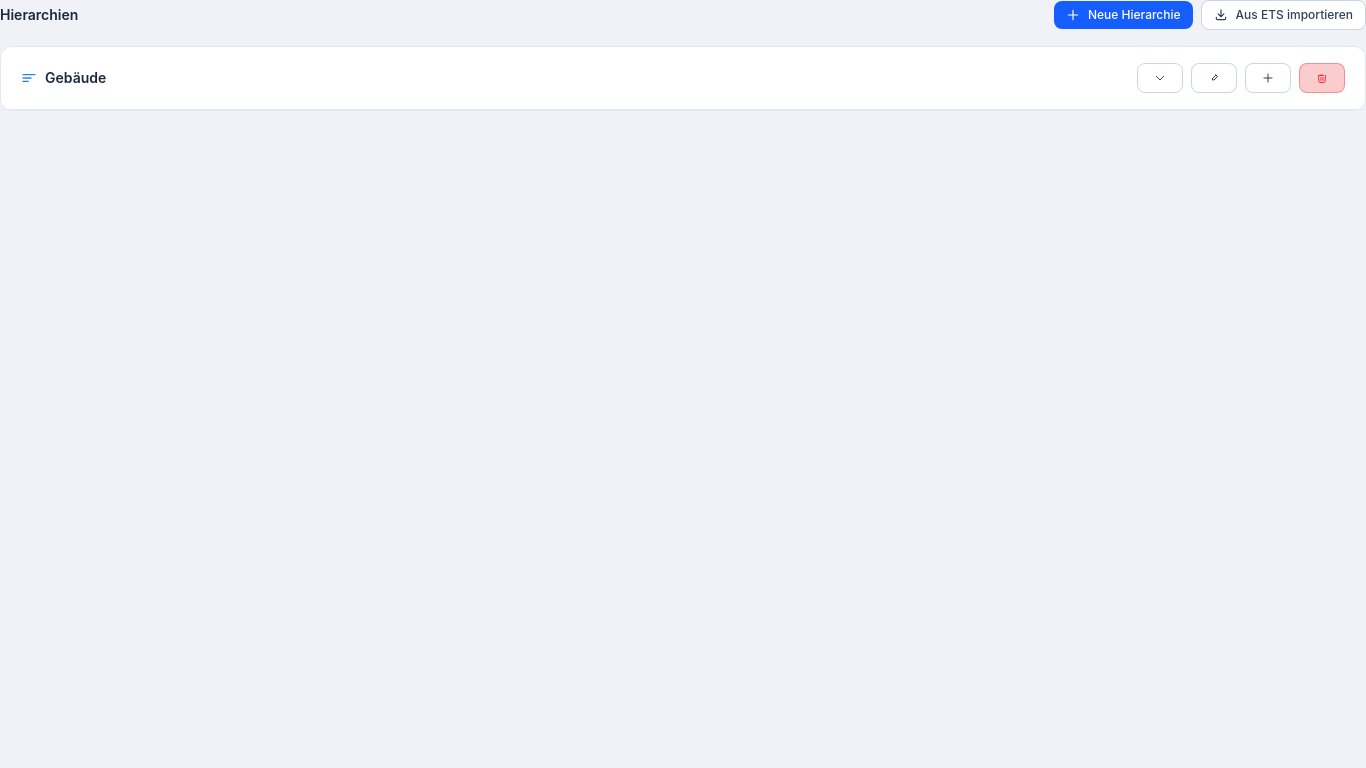
it: HierarchyManager — edit tree › opens tree edit modal with existing name
Click the button with test id "btn-edit-tree-tree-1". click: (1214, 78)
box: [1191,63,1237,93]
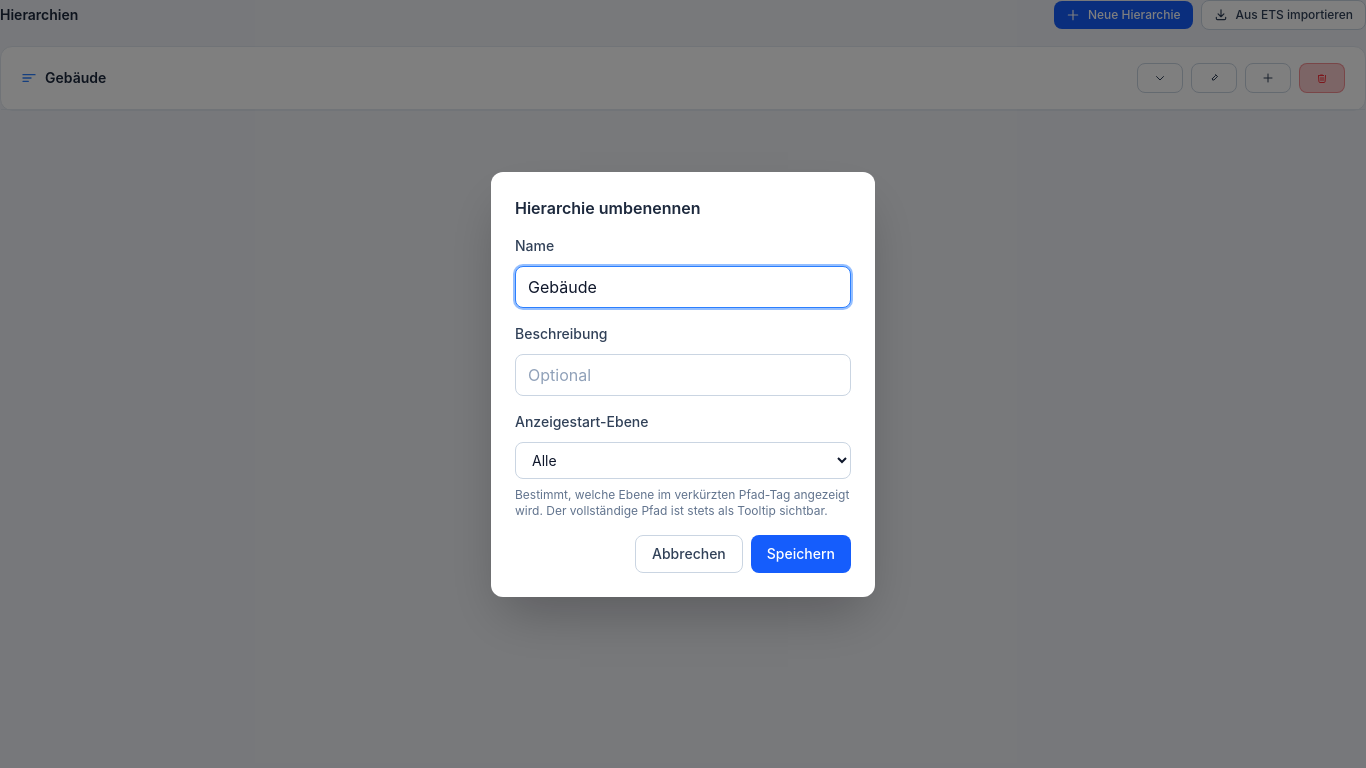
Expected: the 1st field holds "Gebäude", [515,266,851,308]
